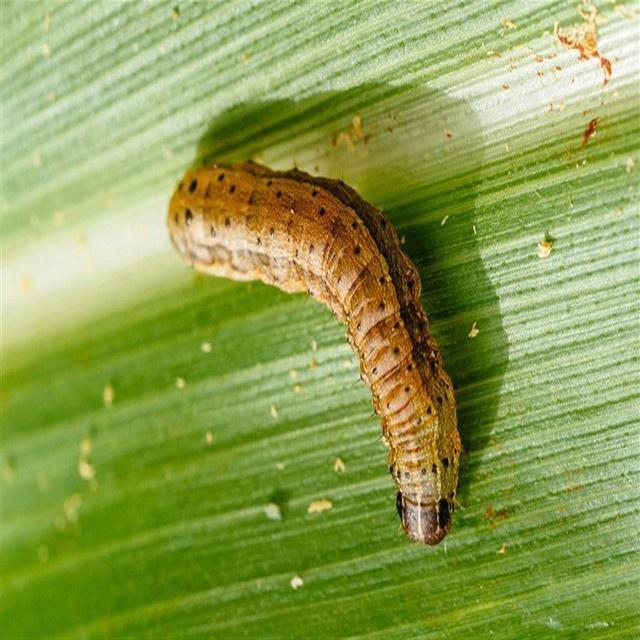gusano_cogollero: (168, 162, 454, 545)
